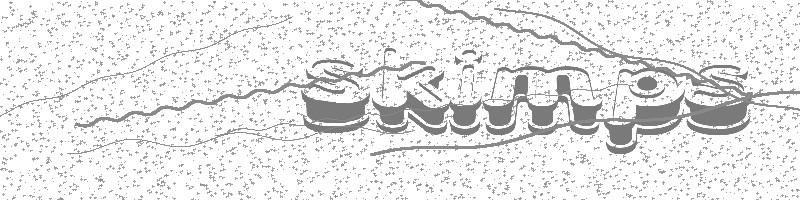i: (447, 45, 482, 135)
k: (370, 44, 449, 136)
m: (481, 63, 602, 135)
p: (603, 65, 682, 156)
s: (297, 53, 370, 131), (682, 61, 754, 133)
